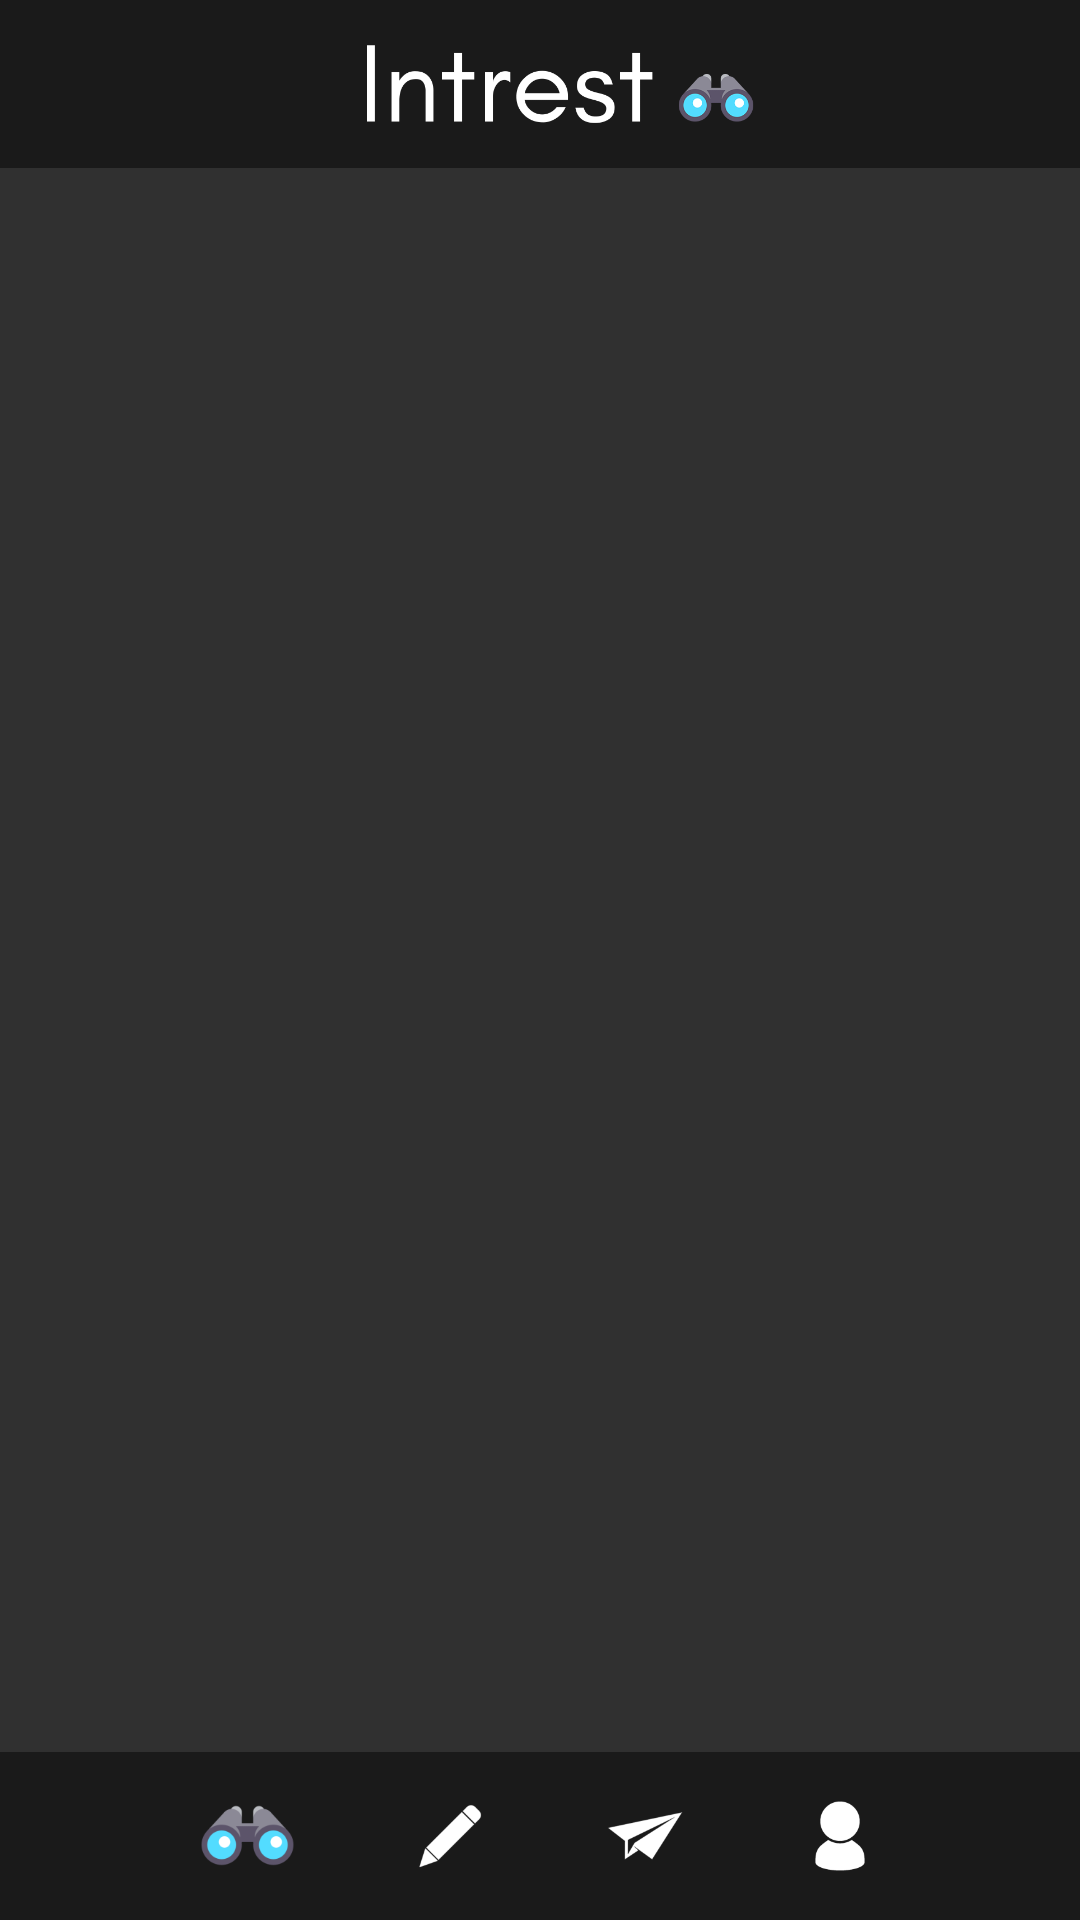

Screen size 1080×1920. Icon name, then its box in pixels as {"left": x1, "top": y1, "right": x2, "bottom": y2}:
pen: {"left": 419, "top": 1805, "right": 481, "bottom": 1867}
plane: {"left": 608, "top": 1812, "right": 682, "bottom": 1859}
user: {"left": 815, "top": 1801, "right": 865, "bottom": 1871}
